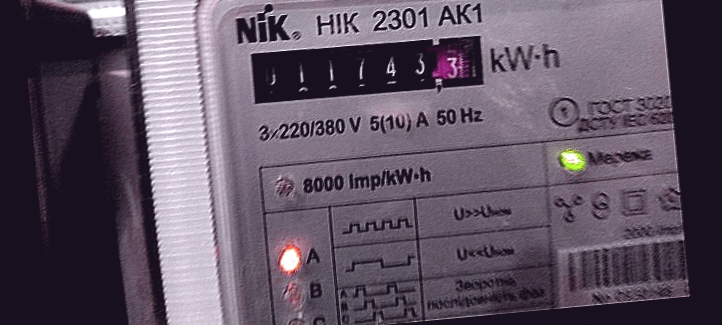0: (263, 56, 279, 85)
1: (323, 51, 338, 80), (294, 54, 307, 81)
3: (412, 45, 429, 73), (444, 51, 460, 78)
4: (382, 48, 399, 76)
7: (352, 48, 370, 77)
screen: (239, 17, 498, 114)
